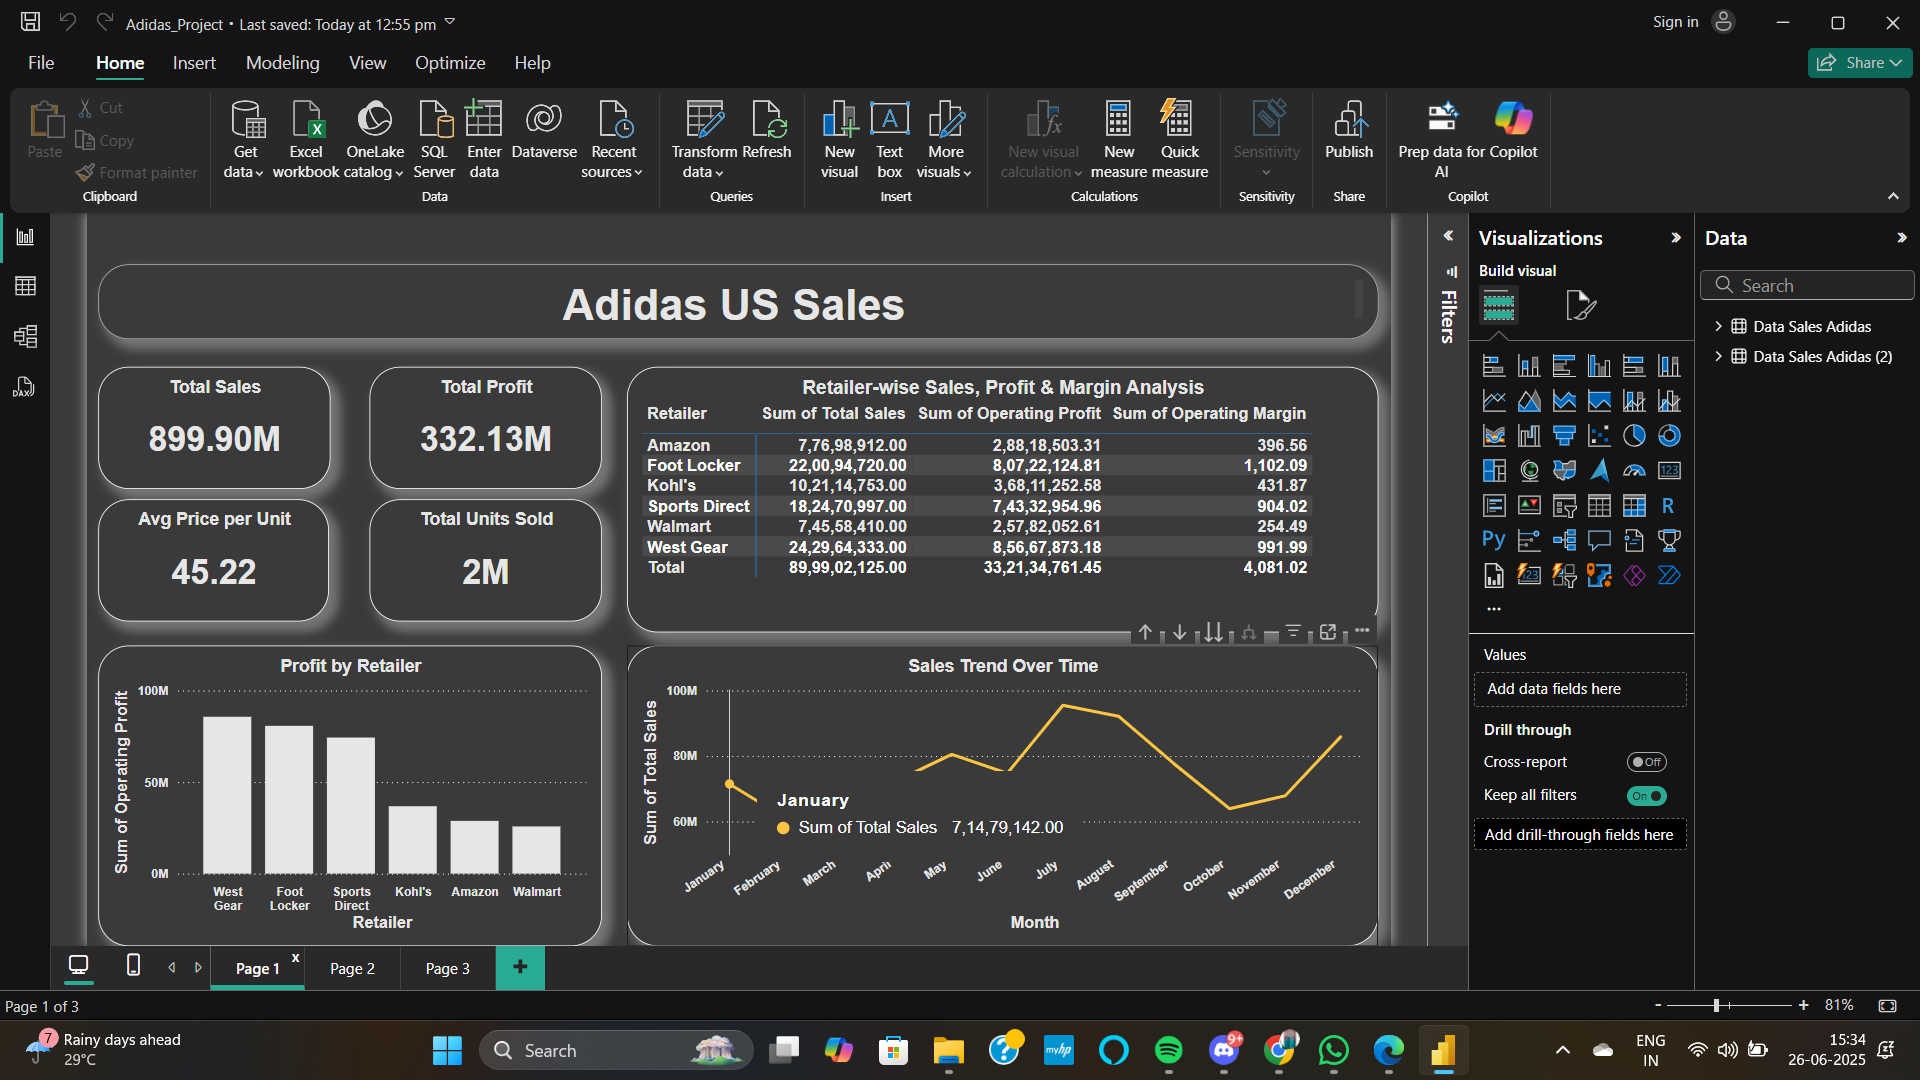

What the dashboard file says about the page in this screenshot:
{"tool":"powerbi","page":{"name":"Page 1","canvas":[1280,720],"ordinal":0},"visuals":[{"type":"card","title":"Total Sales","fields":{"Values":["Sum(Data Sales Adidas (2).Total Sales)"]},"box":[10.5,151.2,227.9,119.8],"z":0},{"type":"textbox","box":[10.5,50,1257,73.3],"z":1000},{"type":"card","title":"Total Profit","fields":{"Values":["Sum(Data Sales Adidas (2).Operating Profit)"]},"box":[276.7,151.2,227.9,119.8],"z":2000},{"type":"card","title":"Avg Price per Unit","fields":{"Values":["Avg(Data Sales Adidas (2).Price per Unit)"]},"box":[10.5,281.4,226.7,119.8],"z":3000},{"type":"card","title":"Total Units Sold ","fields":{"Values":["Sum(Data Sales Adidas (2).Units Sold)"]},"box":[276.7,281.4,227.9,119.8],"z":4000},{"type":"columnChart","title":"Profit by Retailer","fields":{"Category":["Data Sales Adidas (2).Retailer"],"Y":["Sum(Data Sales Adidas (2).Operating Profit)"]},"box":[10.5,424.4,494.2,295.3],"z":5000},{"type":"pivotTable","title":"Retailer-wise Sales, Profit & Margin Analysis","fields":{"Rows":["Data Sales Adidas (2).Retailer"],"Values":["Sum(Data Sales Adidas (2).Total Sales)","Sum(Data Sales Adidas (2).Operating Profit)","Sum(Data Sales Adidas (2).Operating Margin)"]},"box":[530.2,151.2,737.2,260.5],"z":6000},{"type":"lineChart","title":"Sales Trend Over Time","fields":{"Category":["Data Sales Adidas (2).Invoice Date.Variation.Date Hierarchy.Year","Data Sales Adidas (2).Invoice Date.Variation.Date Hierarchy.Quarter","Data Sales Adidas (2).Invoice Date.Variation.Date Hierarchy.Month","Data Sales Adidas (2).Invoice Date.Variation.Date Hierarchy.Day"],"Y":["Sum(Data Sales Adidas (2).Total Sales)"]},"box":[530.2,424.4,737.2,295.3],"z":7000}]}

Visuals, with their boxes on the page's 1280x720 design canvas (x1, y1, x2, y2). These are canvas units, not pixel positions in the 1920x1080 screenshot, which may show the page scaled, cropped or inside an application window:
"Total Sales" card: 10,151,238,271
textbox: 10,50,1268,123
"Total Profit" card: 277,151,505,271
"Avg Price per Unit" card: 10,281,237,401
"Total Units Sold " card: 277,281,505,401
"Profit by Retailer" columnChart: 10,424,505,720
"Retailer-wise Sales, Profit & Margin Analysis" pivotTable: 530,151,1267,412
"Sales Trend Over Time" lineChart: 530,424,1267,720
